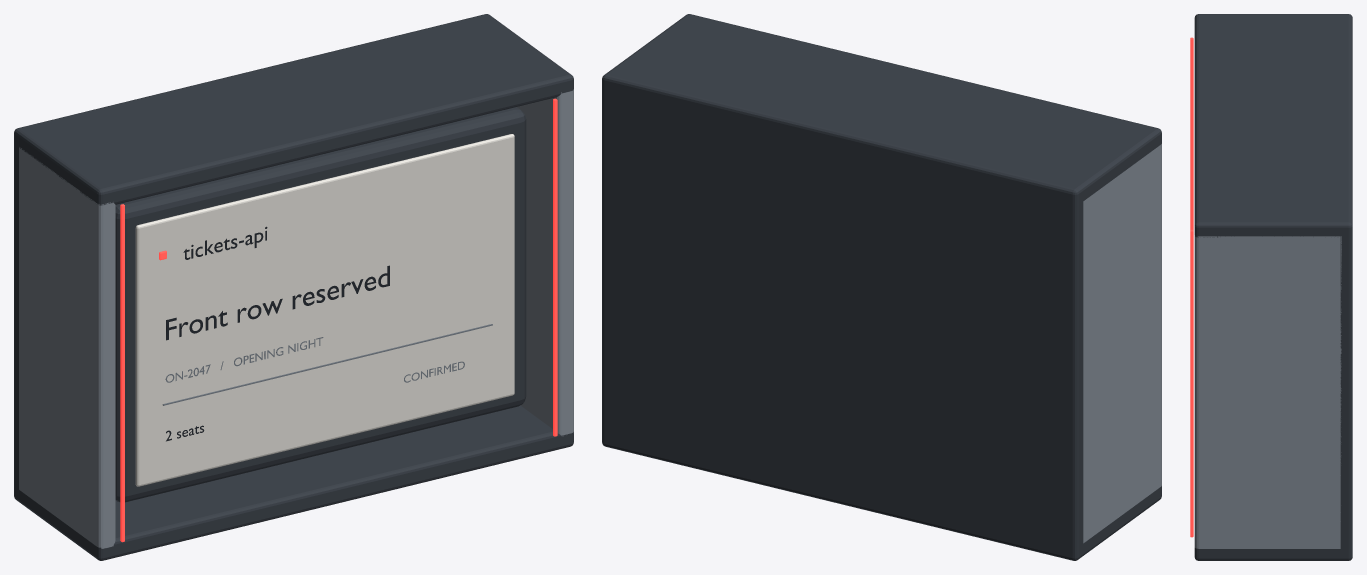
File: application-module.glb
3 views of the same model, side by side, from view 1: azimuth 30°, elevation 25°; view 2: azimuth 150°, elevation 25°; view 3: azimuth 270°, elevation 25° (orthographic). The views are drawn at different scales.
Parts seen in each view (by area): view 1: app_ticket, shell_top, shell_left, shell_bottom, app_chassis, shell_right, shell_back, app_corner.001, app_corner, app_title, app_rule; view 2: shell_back, shell_top, shell_left, shell_bottom; view 3: shell_right, shell_top, shell_back, shell_bottom, app_corner.001, app_corner.
Boxes of the visible parts, <box> form: app_ticket: <box>135,134,514,486</box>; shell_top: <box>18,17,573,205</box>; shell_left: <box>19,147,115,548</box>; shell_bottom: <box>18,405,573,560</box>; app_chassis: <box>115,107,526,502</box>; shell_right: <box>517,89,573,436</box>; shell_back: <box>14,14,491,501</box>; app_corner.001: <box>553,98,557,436</box>; app_corner: <box>120,204,124,542</box>; app_title: <box>166,265,389,340</box>; app_rule: <box>162,324,492,405</box>; shell_back: <box>602,71,1083,560</box>; shell_top: <box>609,14,1161,201</box>; shell_left: <box>1083,144,1161,543</box>; shell_bottom: <box>1082,486,1161,555</box>; shell_right: <box>1194,235,1341,548</box>; shell_top: <box>1194,14,1341,237</box>; shell_back: <box>1340,14,1352,560</box>; shell_bottom: <box>1194,548,1341,560</box>; app_corner.001: <box>1190,229,1193,537</box>; app_corner: <box>1190,37,1193,229</box>.
Bounding box in the file's own units: 3.7 × 2.76 × 1.2.
